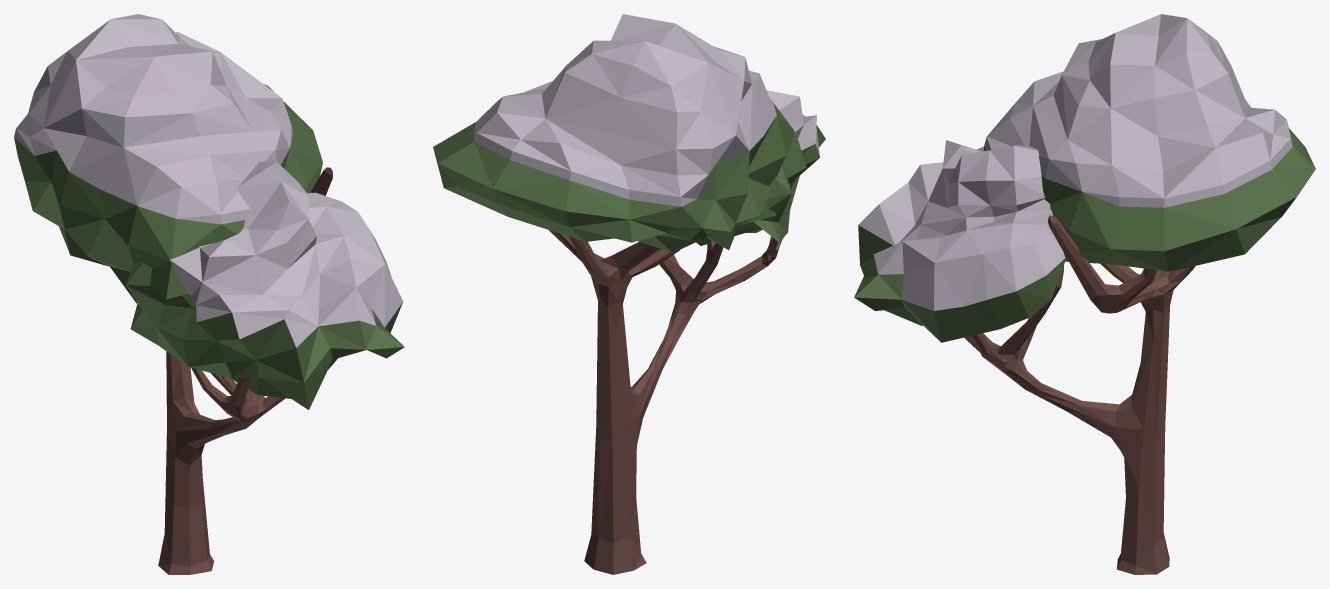
The model's file is CommonTree_Snow_2.lod1.glb.
3 views of the same model, side by side, from view 1: azimuth 30°, elevation 25°; view 2: azimuth 150°, elevation 25°; view 3: azimuth 270°, elevation 25° (orthographic). The views are drawn at different scales.
Parts seen in each view (by area): view 1: CommonTree_Snow_2; view 2: CommonTree_Snow_2; view 3: CommonTree_Snow_2.
Boxes of the visible parts, left/top/right/bottom form: CommonTree_Snow_2: left=14, top=14, right=404, bottom=574; CommonTree_Snow_2: left=433, top=14, right=825, bottom=574; CommonTree_Snow_2: left=854, top=14, right=1315, bottom=574.
Size of the model in its own units: 1.66 by 3.16 by 2.54.
